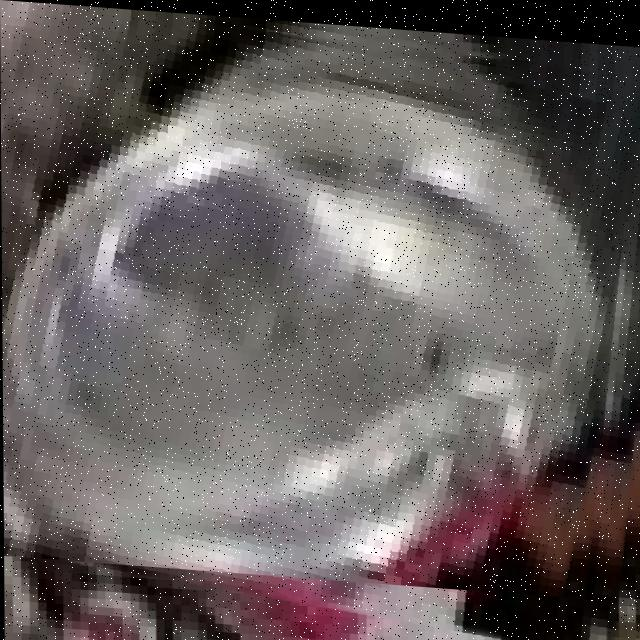can: (2, 19, 618, 588)
